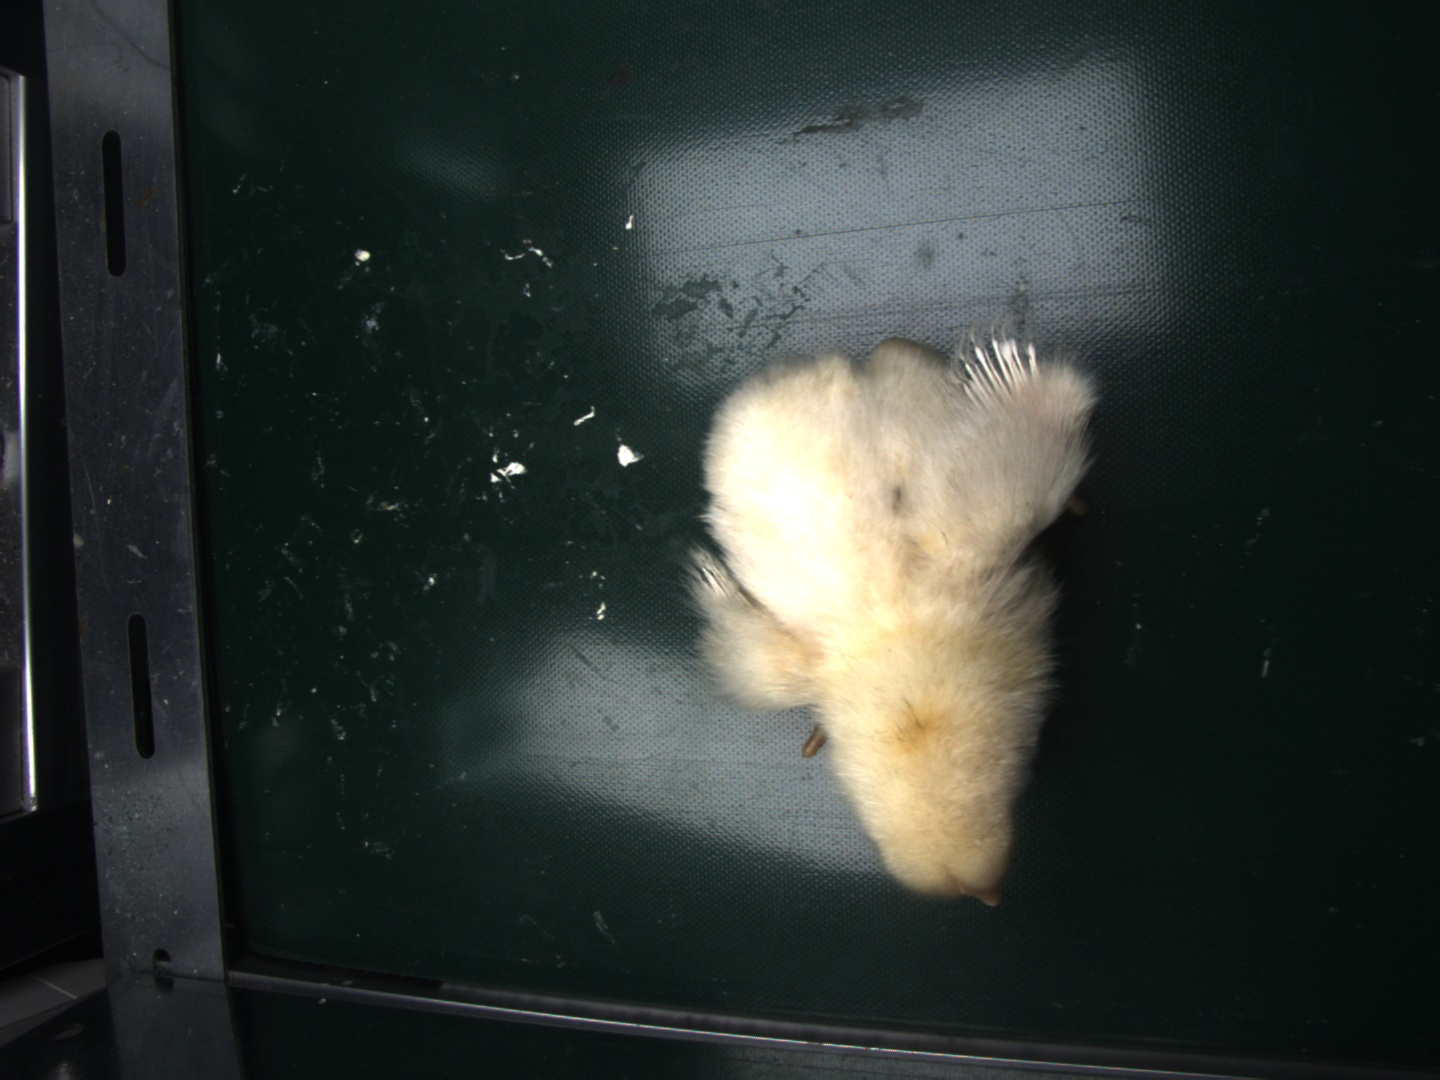male: (957, 339, 1039, 403)
